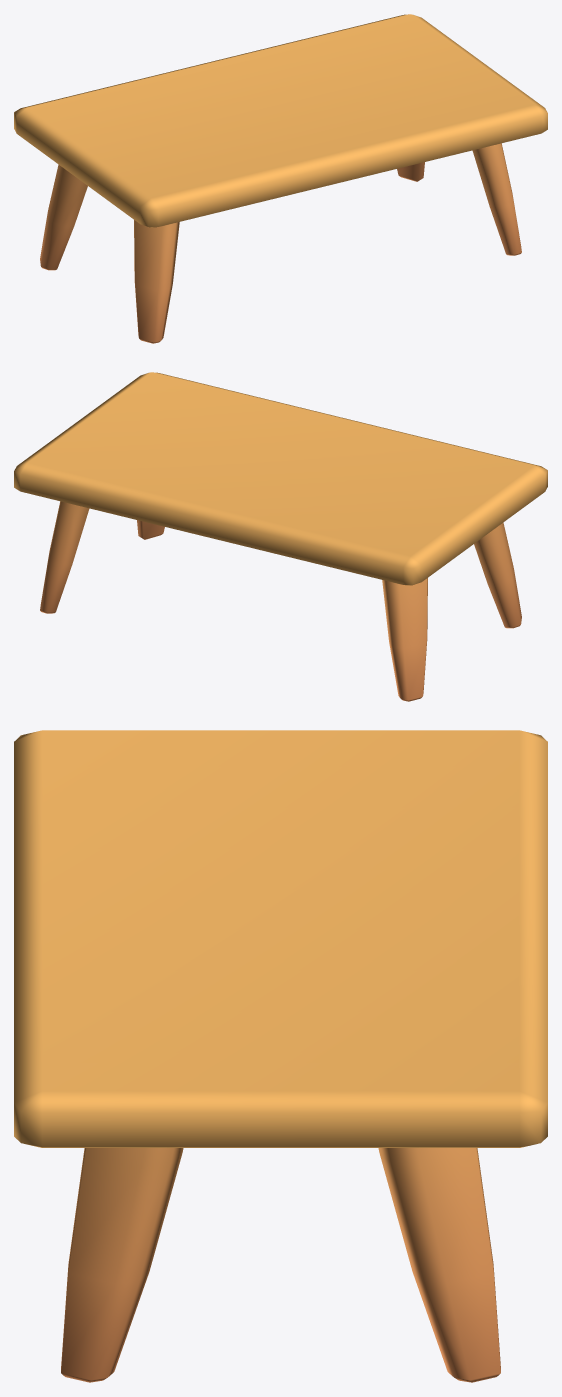
The model's file is Furniture_Table_12.fbx.
The picture shows the model from 3 angles, top to bottom: view 1: azimuth 30°, elevation 25°; view 2: azimuth 150°, elevation 25°; view 3: azimuth 270°, elevation 25°; orthographic projection. The views are drawn at different scales.
Parts seen in each view (by area): view 1: Furniture_Table_12; view 2: Furniture_Table_12; view 3: Furniture_Table_12.
Boxes of the visible parts, x1,y1,x2,y2 form: Furniture_Table_12: [14, 14, 547, 343]; Furniture_Table_12: [14, 372, 547, 701]; Furniture_Table_12: [14, 730, 547, 1382].
Bounding box in the file's own units: 250 × 90.38 × 148.
